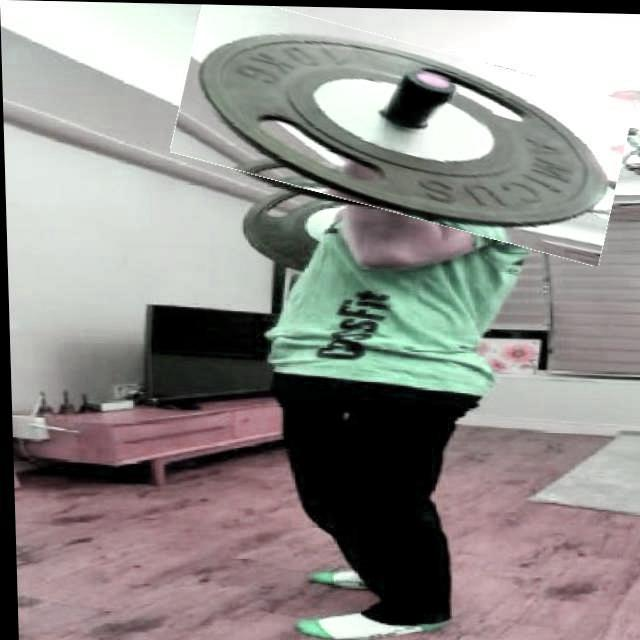barbell: (175, 12, 630, 240)
